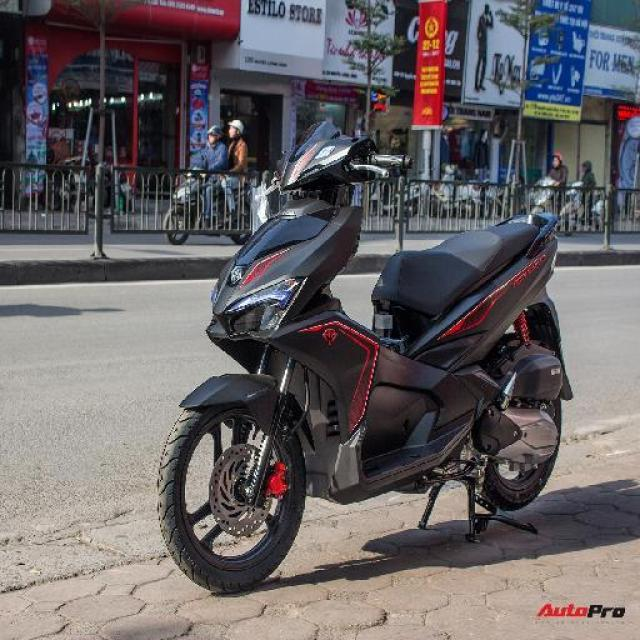All: (152, 101, 574, 598)
Head: (247, 118, 419, 200)
Tail: (491, 201, 562, 285)
